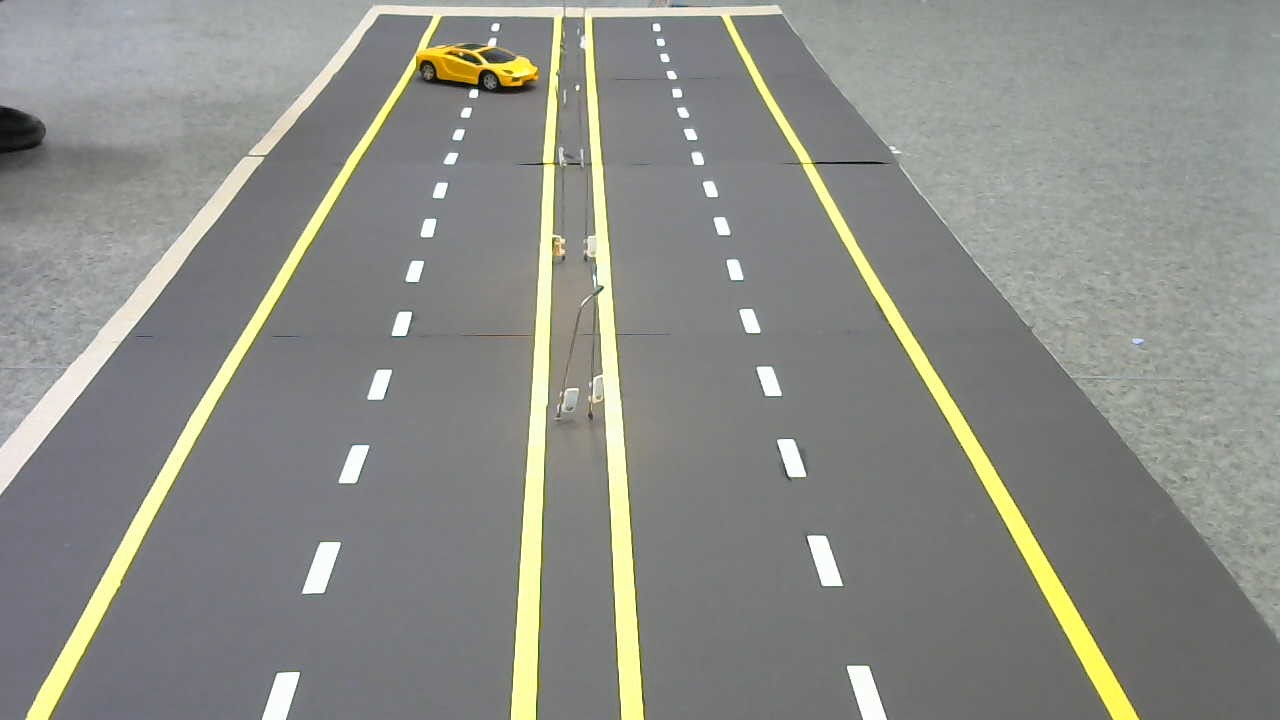overturn_car: (411, 34, 543, 101)
